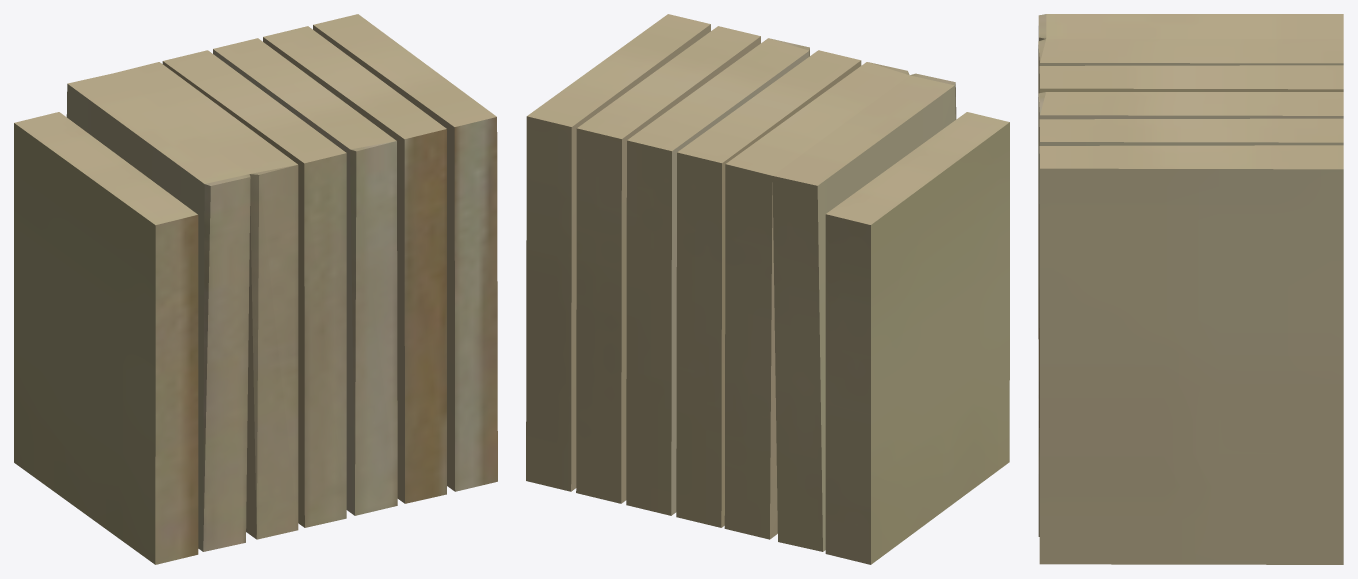
File: book1_v5.dae
The picture shows the model from 3 angles, left to right: view 1: azimuth 30°, elevation 25°; view 2: azimuth 150°, elevation 25°; view 3: azimuth 270°, elevation 25°; orthographic projection. The views are drawn at different scales.
Visible parts, largest first — view 1: node; view 2: node; view 3: node.
Part boxes in pixels (left/top/right/bottom): node: left=14, top=14, right=497, bottom=564; node: left=526, top=14, right=1009, bottom=564; node: left=1038, top=14, right=1343, bottom=564.
Bounding box in the file's own units: 0.1699 × 0.1725 × 0.1203.
Materials: 1 (1 with a texture image).
